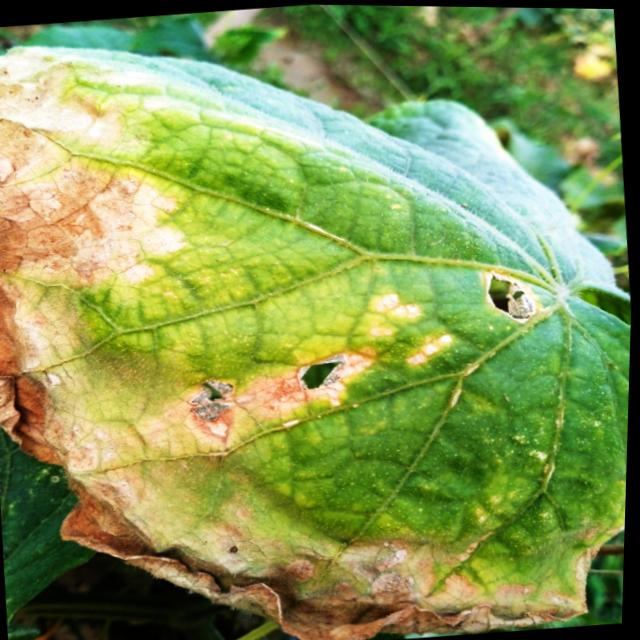Gummy-Stem-Blight: (0, 46, 625, 640)
